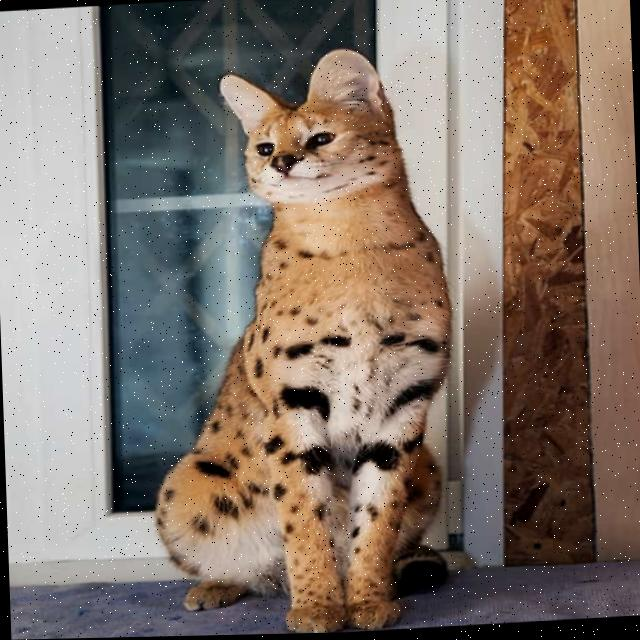Savannah: (132, 41, 469, 638)
